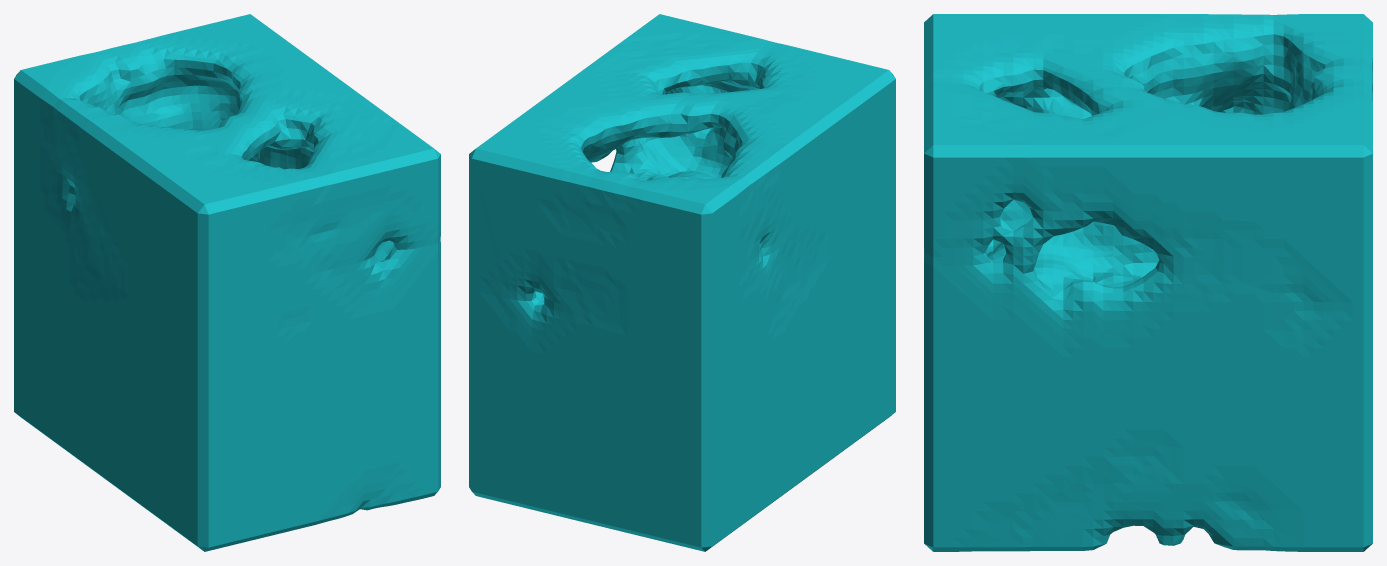
3 renders of one model, left to right at view 1: azimuth 30°, elevation 25°; view 2: azimuth 150°, elevation 25°; view 3: azimuth 270°, elevation 25°, orthographic. The views are drawn at different scales.
Parts seen in each view (by area): view 1: Liquid_Domain; view 2: Liquid_Domain; view 3: Liquid_Domain.
Boxes of the visible parts, x1=… form: Liquid_Domain: x1=14, y1=14, x2=440, y2=551; Liquid_Domain: x1=469, y1=14, x2=895, y2=551; Liquid_Domain: x1=924, y1=14, x2=1372, y2=551.
Size of the model in its own units: 79.09 by 108 by 108.
